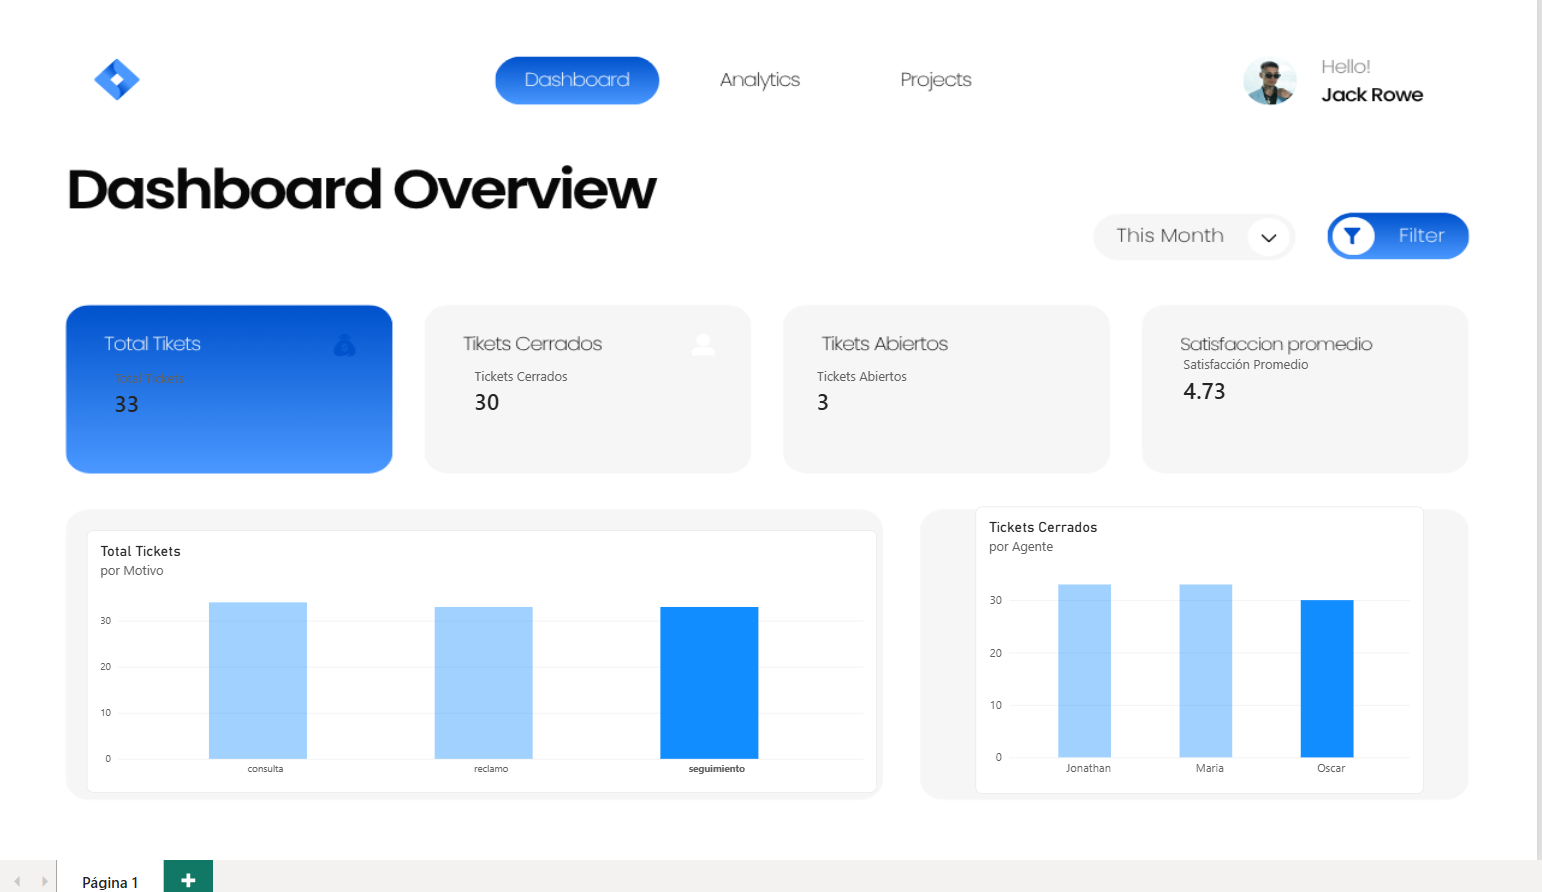

Layout of this report page (visuals, bound fields, positions):
{"tool":"powerbi","page":{"name":"Página 1","canvas":[1920,1080],"ordinal":0},"visuals":[{"type":"cardVisual","title":"hola","fields":{"Data":["Tickets.Total Tickets"]},"box":[129.7,247.9,500,500],"z":0},{"type":"cardVisual","fields":{"Data":["Tickets.Tickets Cerrados"]},"box":[577.8,341.4,491.9,310.8],"z":1000},{"type":"cardVisual","fields":{"Data":["Tickets.Tickets Abiertos"]},"box":[1005,341.4,492,311],"z":2000},{"type":"cardVisual","fields":{"Data":["Tickets.Satisfacción Promedio"]},"box":[1462.7,368.1,358.5,228.8],"z":3000},{"type":"clusteredColumnChart","fields":{"Category":["Tickets.Motivo"],"Y":["Tickets.Total Tickets"]},"box":[110.6,669.4,985.9,327.3],"z":4000},{"type":"clusteredColumnChart","fields":{"Category":["Tickets.Agente"],"Y":["Tickets.Tickets Cerrados"]},"box":[1218.6,638.9,559,358],"z":5000}]}

Visuals, with their boxes on the page's 1920x1080 design canvas (x1, y1, x2, y2). These are canvas units, not pixel positions in the 1542x892 screenshot, which may show the page scaled, cropped or inside an application window:
"hola" cardVisual: x1=130 y1=248 x2=630 y2=748
cardVisual - Tickets.Tickets Cerrados: x1=578 y1=341 x2=1070 y2=652
cardVisual - Tickets.Tickets Abiertos: x1=1005 y1=341 x2=1497 y2=652
cardVisual - Tickets.Satisfacción Promedio: x1=1463 y1=368 x2=1821 y2=597
clusteredColumnChart - Tickets.Motivo x Tickets.Total Tickets: x1=111 y1=669 x2=1096 y2=997
clusteredColumnChart - Tickets.Agente x Tickets.Tickets Cerrados: x1=1219 y1=639 x2=1778 y2=997
